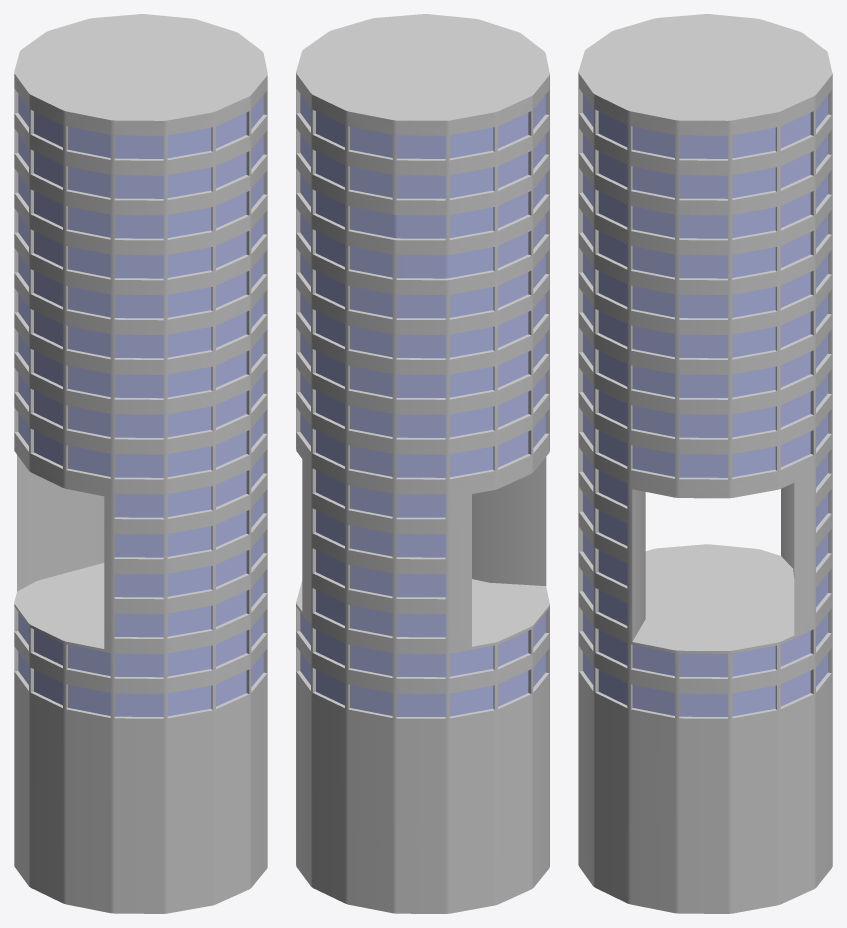
File: buhinn1.fbx
3 views of the same model, side by side, from view 1: azimuth 30°, elevation 25°; view 2: azimuth 150°, elevation 25°; view 3: azimuth 270°, elevation 25° (orthographic).
Parts seen in each view (by area): view 1: polySurface6; view 2: polySurface6; view 3: polySurface6.
Part boxes in pixels (<box>): polySurface6: <box>14,14,267,913</box>; polySurface6: <box>296,14,549,913</box>; polySurface6: <box>578,14,832,913</box>.
Bounding box in the file's own units: 12.38 × 42.85 × 12.44.
